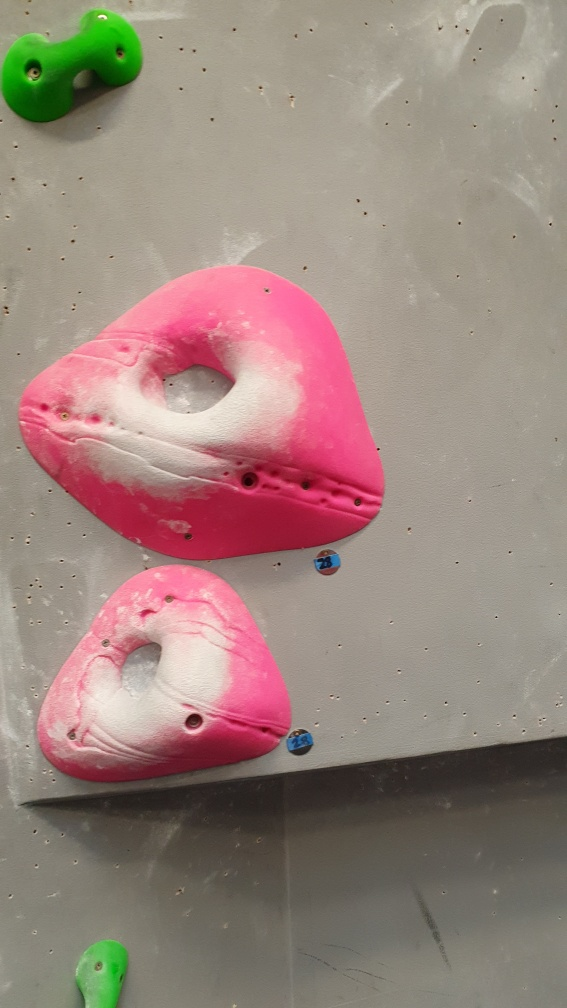Hand Start: (281, 720, 323, 760), (308, 541, 343, 580)
Pocket: (16, 259, 387, 563), (35, 563, 295, 792)
